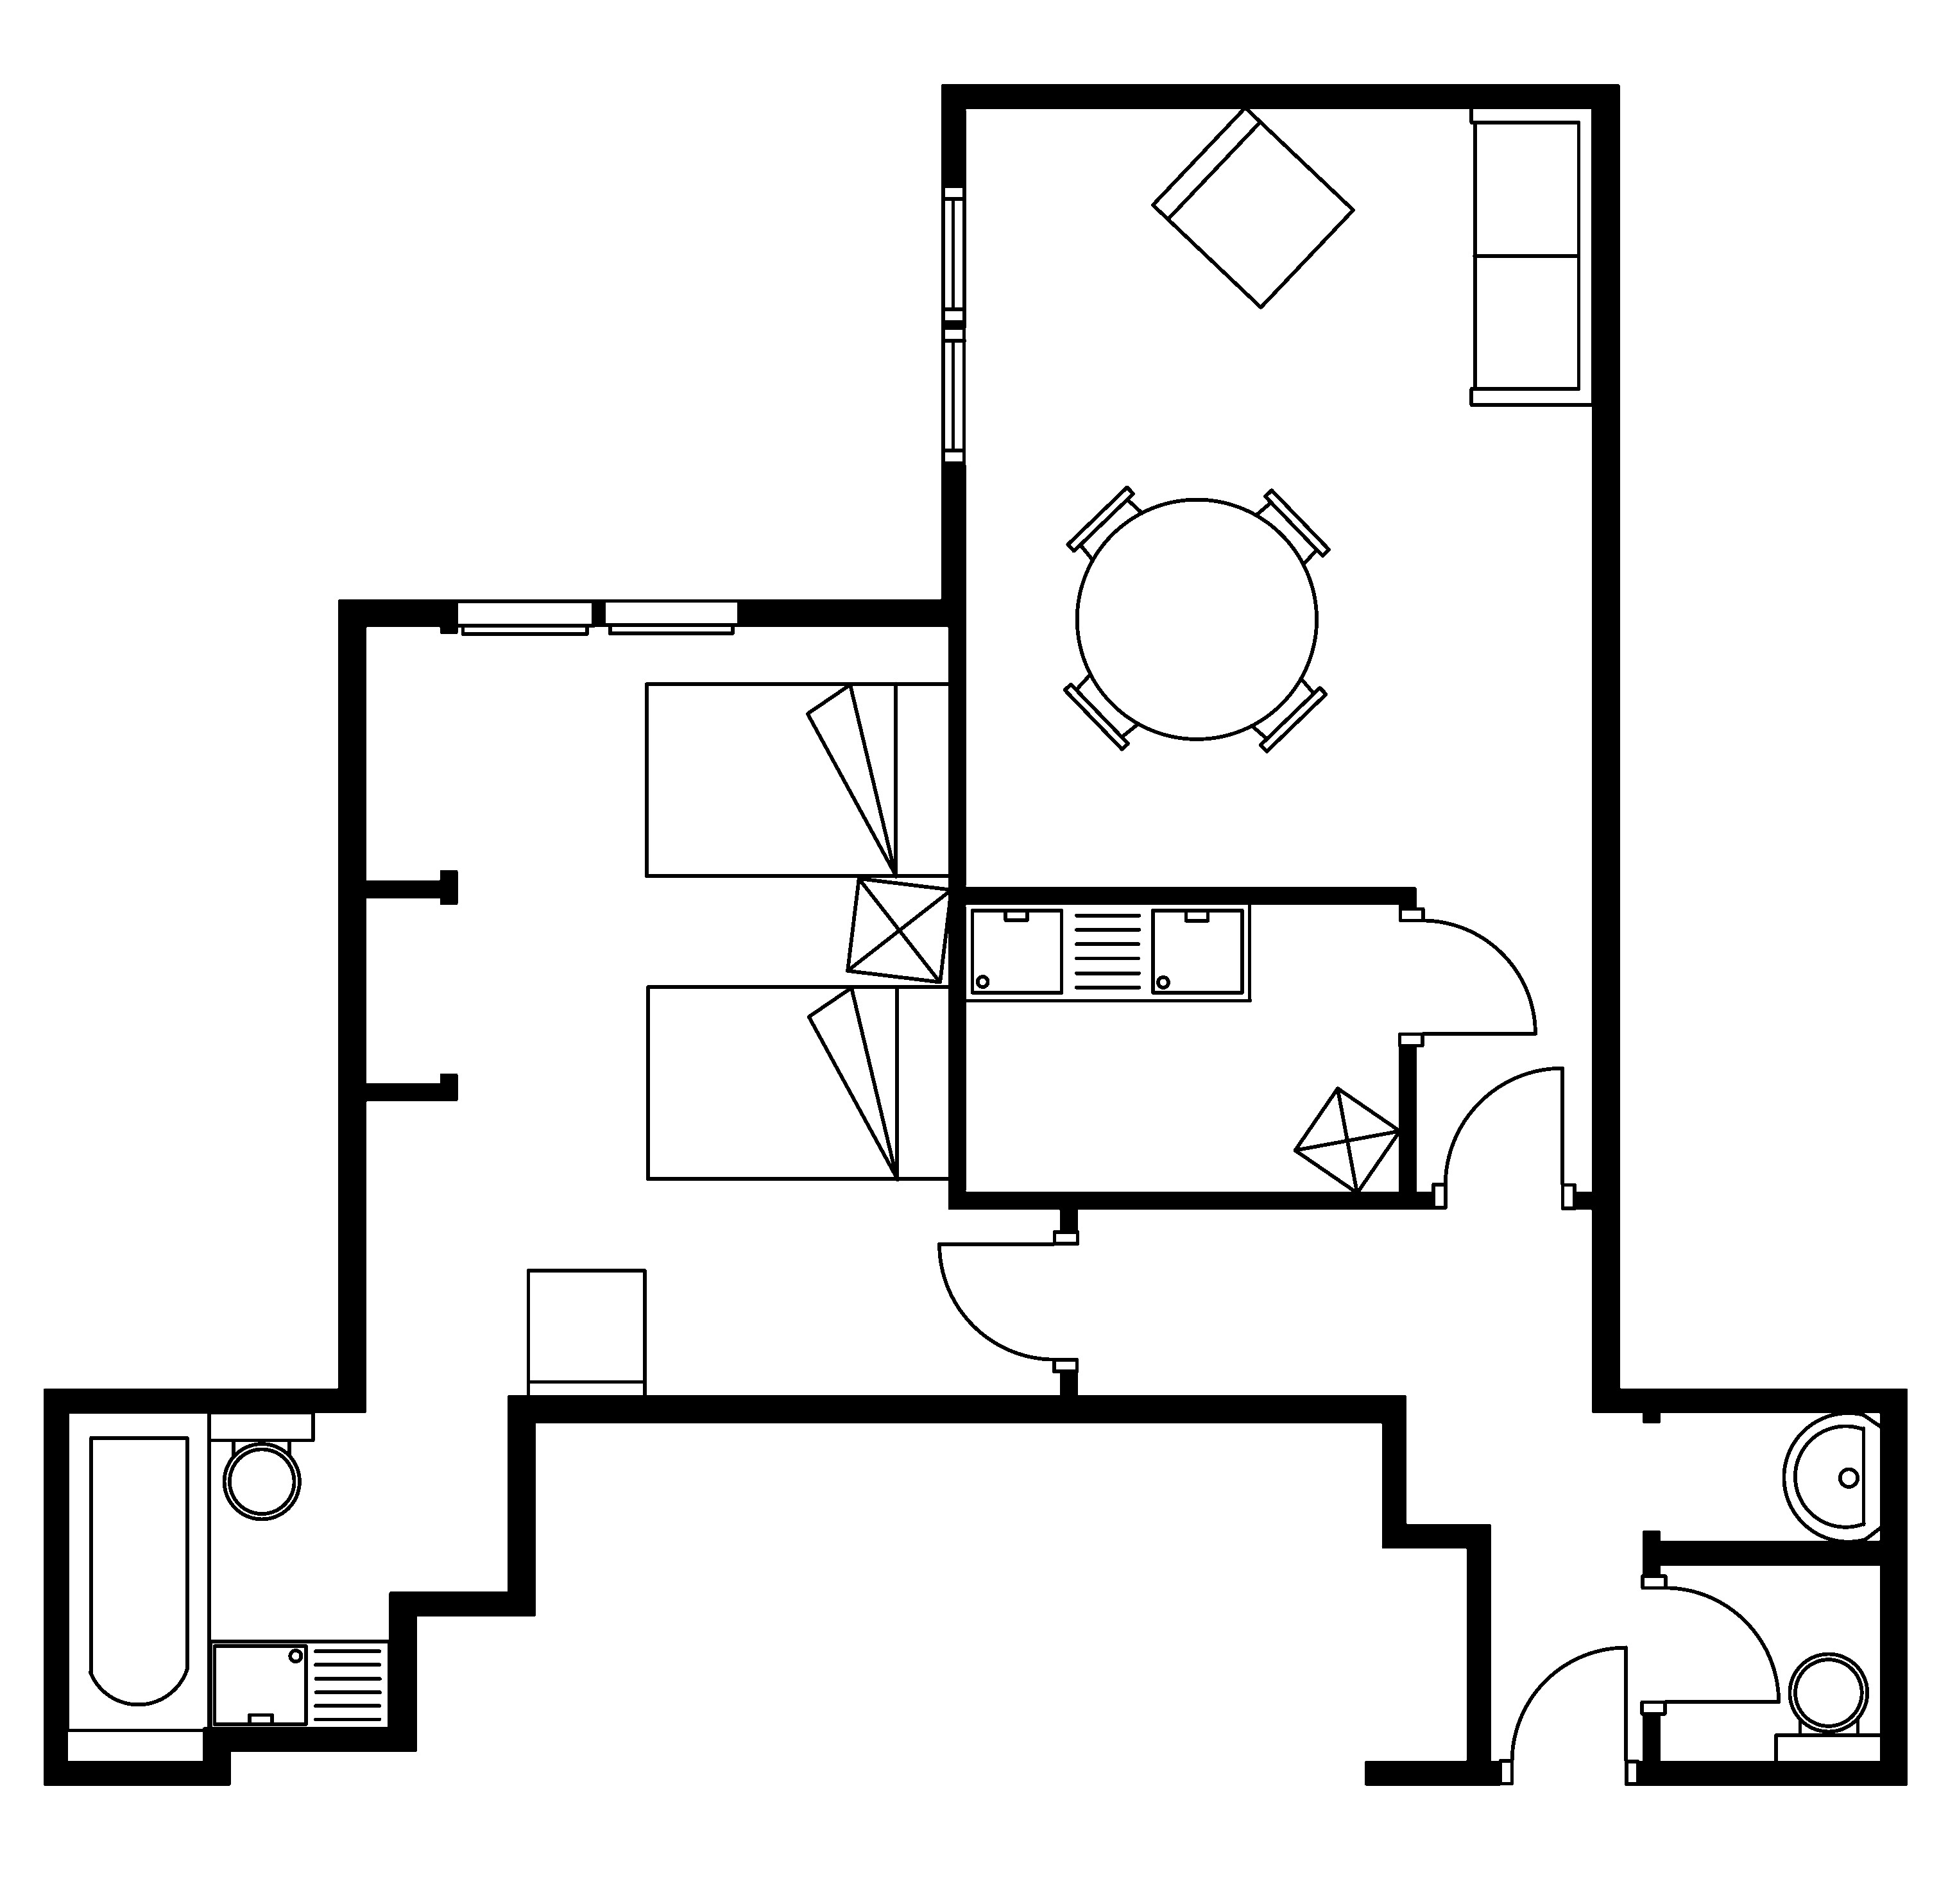bed: (644, 680, 952, 879), (645, 983, 954, 1182)
coffee_table: (1292, 1086, 1402, 1194), (844, 875, 952, 983)
large_sink: (1774, 1653, 1885, 1766), (206, 1411, 316, 1520)
large_sofa: (1468, 105, 1596, 406)
round_table: (1062, 485, 1331, 753)
sink: (208, 1639, 391, 1731)
small_sink: (1782, 1411, 1883, 1543)
small_sofa: (1149, 105, 1355, 309), (525, 1268, 647, 1402)
tub: (65, 1409, 211, 1733)
twin_sink: (961, 900, 1252, 1003)
